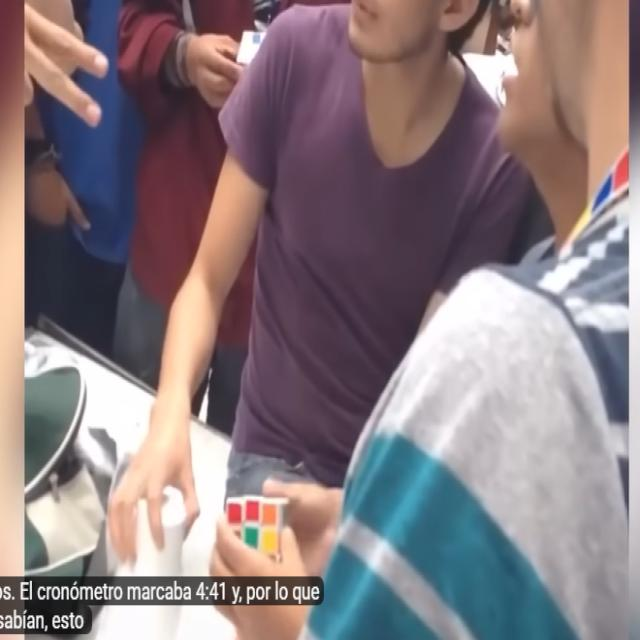Cubo-No-resuelto: (226, 496, 286, 558)
